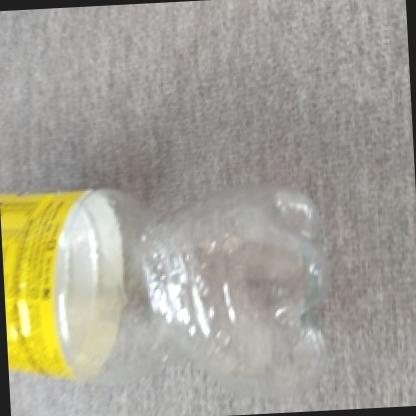plastic_bottles: (0, 161, 355, 415)
